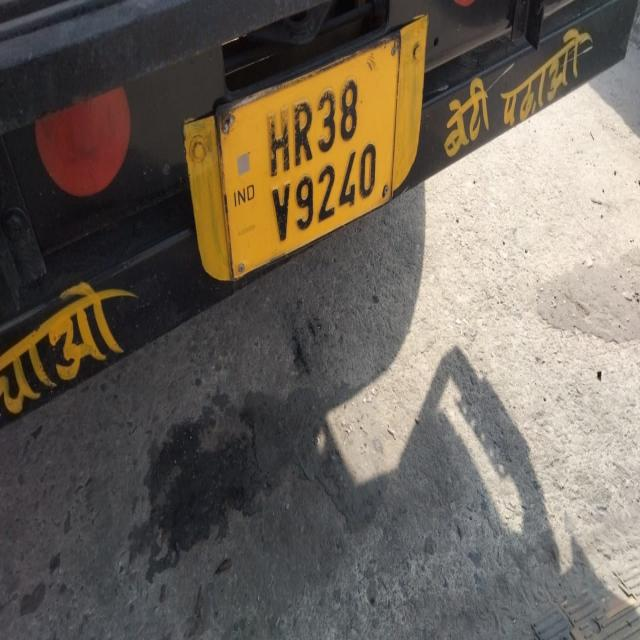License-plate: (214, 78, 400, 246)
